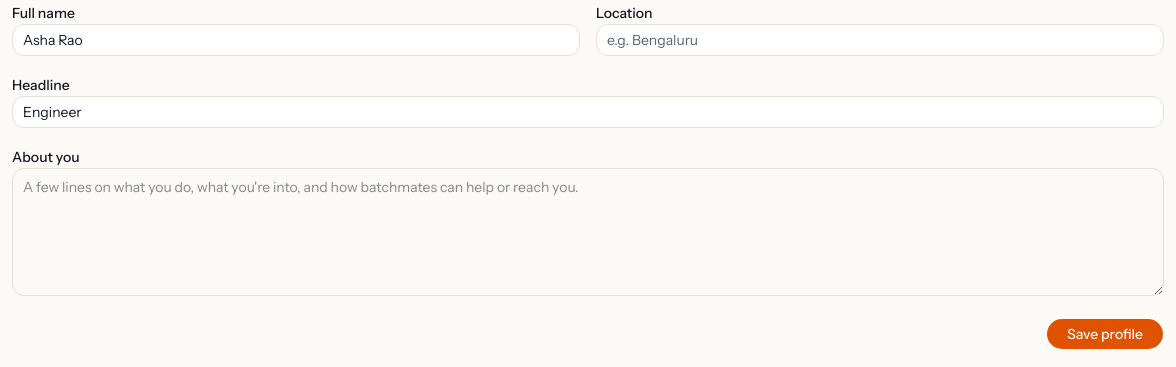
it: ProfileForm › submits only the four named fields and shows a saved message
Replace the text in the field labelled "Headline" with "Robotics engineer" at (588, 112), box [12,96,1164,128]
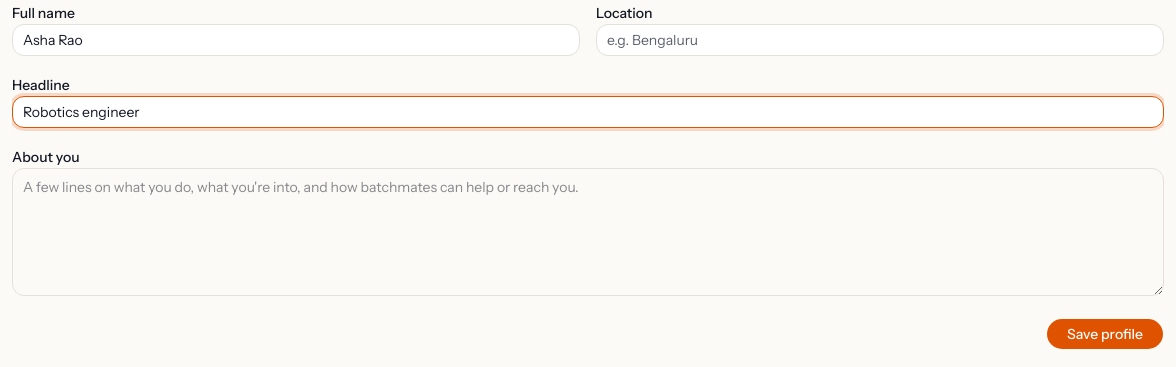
Click the button "Save profile" at (1105, 334), box [1046,318,1164,350]
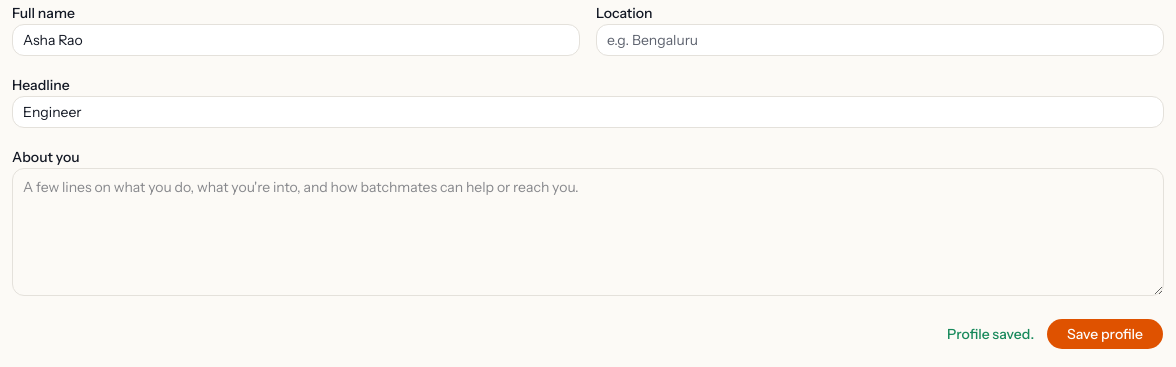
Check: the text "Profile saved." is shown, box [947,324,1034,344]
